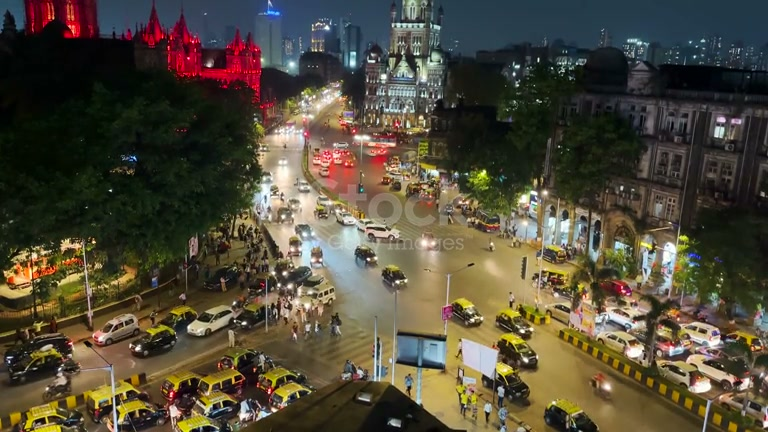car: (5, 333, 79, 384), (686, 356, 749, 391), (543, 398, 599, 432), (494, 334, 539, 371), (91, 313, 139, 347), (129, 325, 178, 358), (187, 305, 235, 337), (493, 371, 531, 404), (495, 313, 534, 339), (451, 298, 484, 327), (508, 314, 535, 339)
pedestrian: (483, 401, 493, 427), (404, 373, 413, 397)
